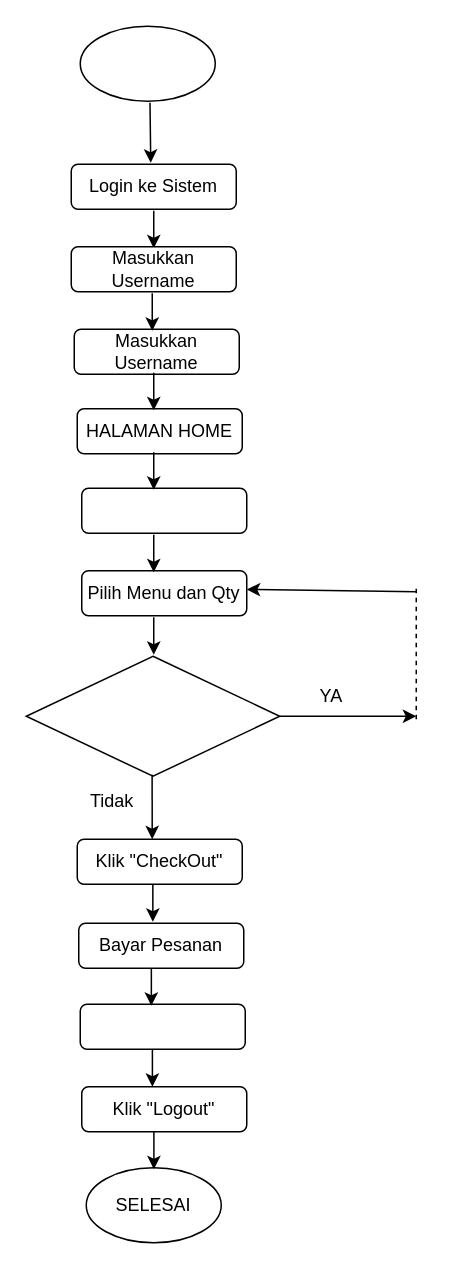
This 458x1269 diagram has some shape labels left out. The shapes that lost their labels are listed below. From the top down, each one's box as (x1, y1, x2, y2) in pixels, then its label:
(79, 25, 215, 101): MULAI
(80, 487, 247, 533): Lihat Daftar Menu
(25, 655, 280, 776): Tambah Pesanan?
(79, 1003, 245, 1049): Transaksi Selesai
